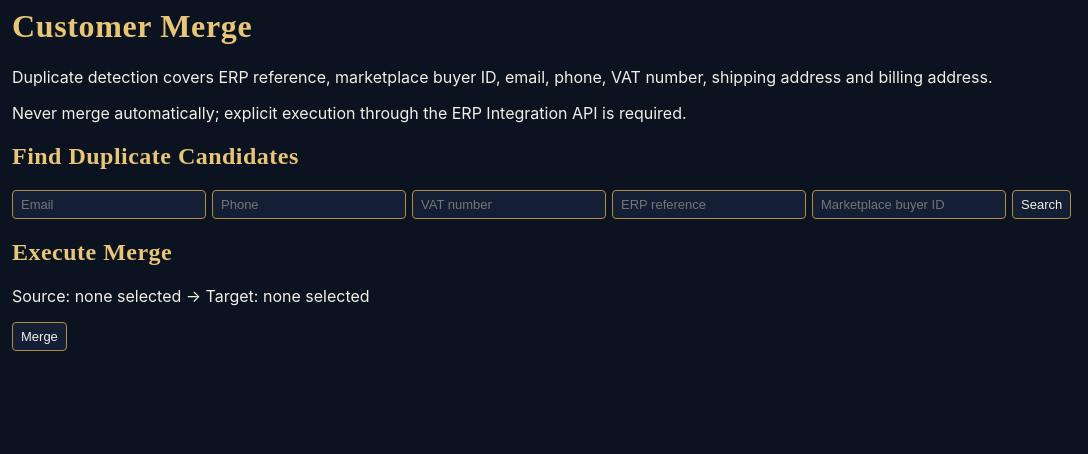
Customer Merge page (Sprint 61B) › shows a 'no candidates' message when the search returns none
This screenshot has width=1088, height=454.
Click the button "Search" at (1042, 204), box x1=1012 y1=190 x2=1071 y2=219
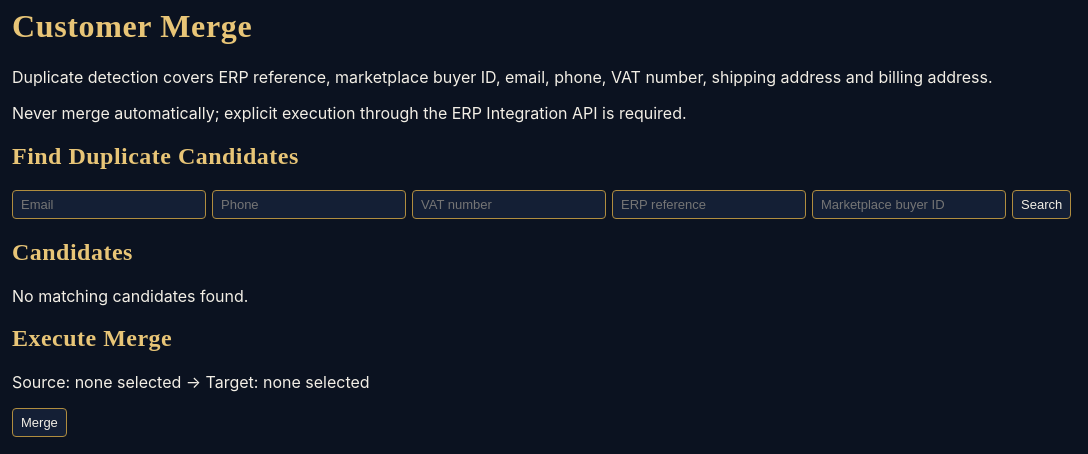
Now the text "No matching candidates found." is shown, box x1=12 y1=286 x2=248 y2=306
